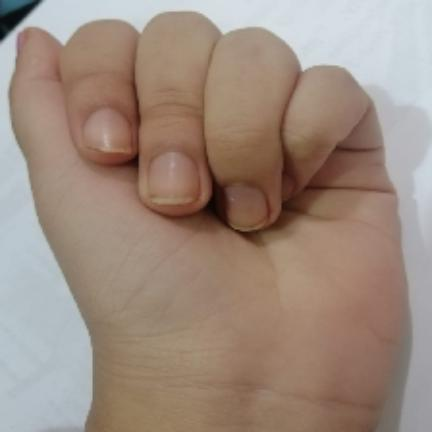Nail: (148, 152, 200, 205), (84, 107, 132, 153), (225, 185, 268, 231), (282, 176, 295, 200)
